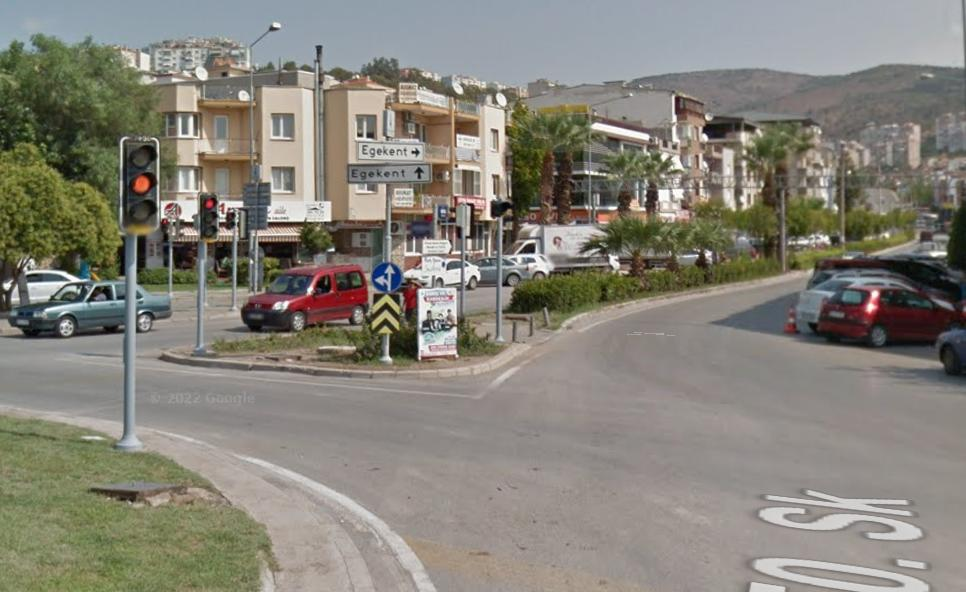yellowlight: (122, 139, 161, 225)
